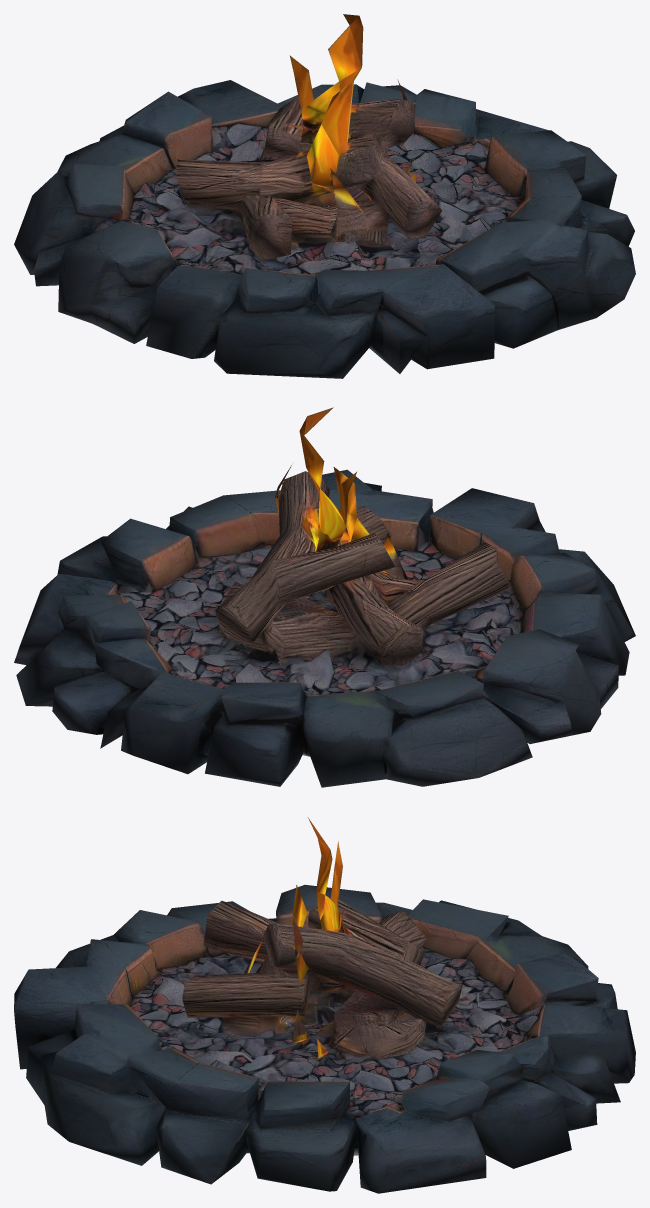
The model's file is prop-campfire-base.glb.
The picture shows the model from 3 angles, top to bottom: view 1: azimuth 30°, elevation 25°; view 2: azimuth 150°, elevation 25°; view 3: azimuth 270°, elevation 25°; orthographic projection.
Size of the model in its own units: 2 by 0.8995 by 1.97.
1 material, 1 textured.
